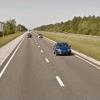Car: (52, 38, 73, 61)
